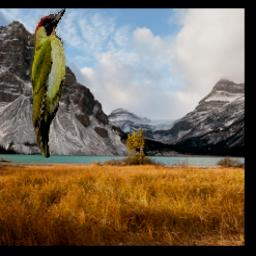Woodpecker: (30, 9, 72, 159)
